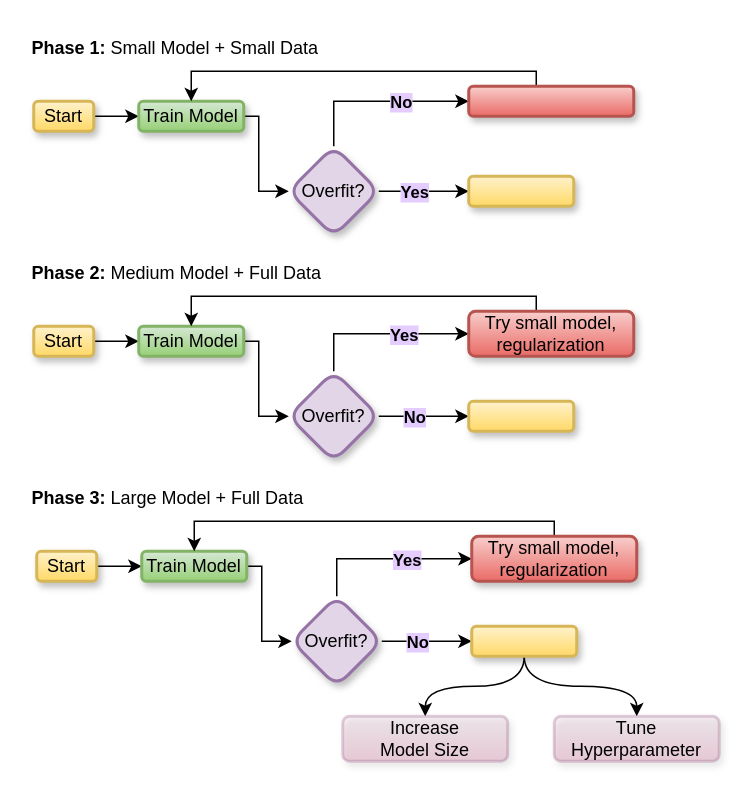
Some shapes in this 755 by 798 pixel diagram are drawn without their labels. Each missing label, with the centre of its shape:
"Fix Implementation" belongs at point (552, 103).
"Go Phase 2" belongs at point (522, 193).
"Go Phase 3" belongs at point (522, 417).
"Scale Up" belongs at point (525, 643).
